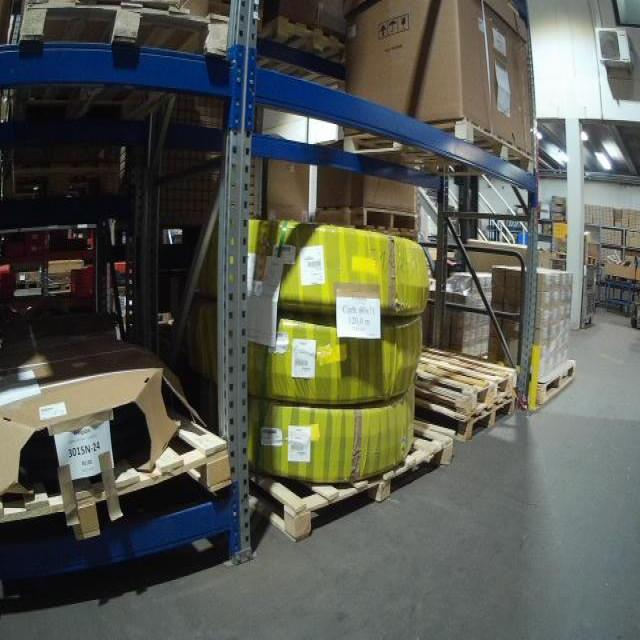pallet: (0, 415, 234, 543), (246, 415, 457, 545), (12, 0, 230, 122), (344, 114, 535, 180), (397, 341, 517, 415), (260, 13, 348, 88), (410, 395, 516, 441), (2, 164, 124, 203), (320, 204, 418, 237), (536, 359, 576, 410), (584, 254, 599, 266)
small_load_carrier: (66, 266, 103, 297)
stillage: (107, 70, 271, 241), (553, 259, 604, 329)
